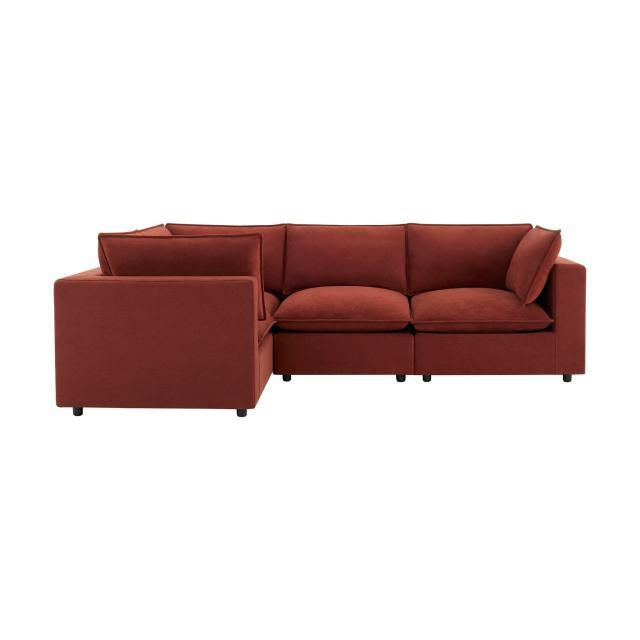sofa: (52, 220, 588, 418)
